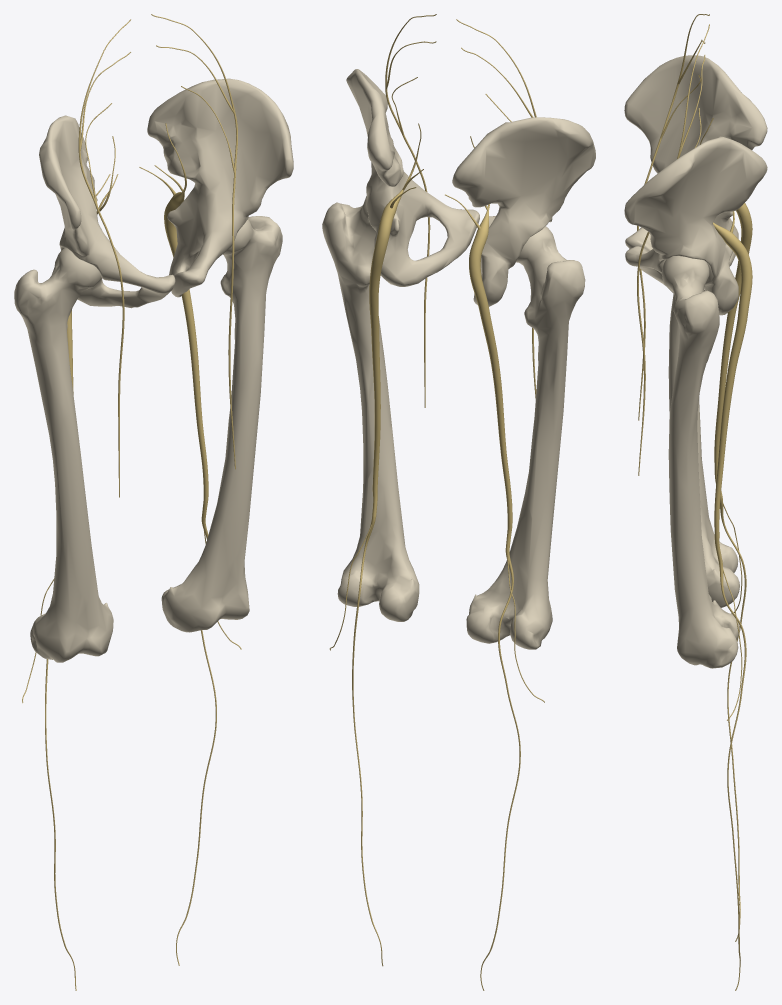
Rendered from lower-limb-balanced.glb.
3 views of the same model, side by side, from view 1: azimuth 30°, elevation 25°; view 2: azimuth 150°, elevation 25°; view 3: azimuth 270°, elevation 25° (orthographic). The views are drawn at different scales.
Visible parts, largest first — view 1: za.hip-bone-l, za.femur-r, za.femur-l, za.hip-bone-r, za.sciatic-nerve-l, za.femoral-nerve-r, za.femoral-nerve-l, za.tibial-nerve-l, za.tibial-nerve-r; view 2: za.femur-r, za.femur-l, za.hip-bone-r, za.hip-bone-l, za.sciatic-nerve-r, za.sciatic-nerve-l, za.femoral-nerve-l, za.tibial-nerve-r, za.tibial-nerve-l, za.femoral-nerve-r; view 3: za.femur-l, za.hip-bone-l, za.hip-bone-r, za.femur-r, za.sciatic-nerve-l, za.sciatic-nerve-r, za.femoral-nerve-l, za.tibial-nerve-l, za.femoral-nerve-r, za.tibial-nerve-r.
Part boxes in pixels (<box>): za.hip-bone-l: <box>147,78,293,297</box>; za.femur-r: <box>14,248,113,662</box>; za.femur-l: <box>161,216,282,632</box>; za.hip-bone-r: <box>39,115,175,308</box>; za.sciatic-nerve-l: <box>139,123,208,519</box>; za.femoral-nerve-r: <box>78,19,130,497</box>; za.femoral-nerve-l: <box>151,14,237,469</box>; za.tibial-nerve-l: <box>176,518,216,965</box>; za.tibial-nerve-r: <box>45,659,76,990</box>; za.femur-r: <box>466,226,585,649</box>; za.femur-l: <box>322,196,419,621</box>; za.hip-bone-r: <box>452,117,595,306</box>; za.hip-bone-l: <box>346,69,479,286</box>; za.sciatic-nerve-r: <box>445,136,512,549</box>; za.sciatic-nerve-l: <box>369,123,423,516</box>; za.femoral-nerve-l: <box>385,14,436,407</box>; za.tibial-nerve-r: <box>480,549,520,990</box>; za.tibial-nerve-l: <box>352,516,383,966</box>; za.femoral-nerve-r: <box>456,19,536,398</box>; za.femur-l: <box>661,256,739,668</box>; za.hip-bone-l: <box>624,136,767,315</box>; za.hip-bone-r: <box>624,55,767,266</box>; za.femur-r: <box>668,294,739,607</box>; za.sciatic-nerve-l: <box>713,211,752,561</box>; za.sciatic-nerve-r: <box>700,118,752,496</box>; za.femoral-nerve-l: <box>637,24,709,475</box>; za.tibial-nerve-l: <box>718,560,746,990</box>; za.femoral-nerve-r: <box>637,14,709,420</box>; za.tibial-nerve-r: <box>720,496,746,941</box>.
Bounding box in the file's own units: 0.2971 × 1.04 × 0.1429.
